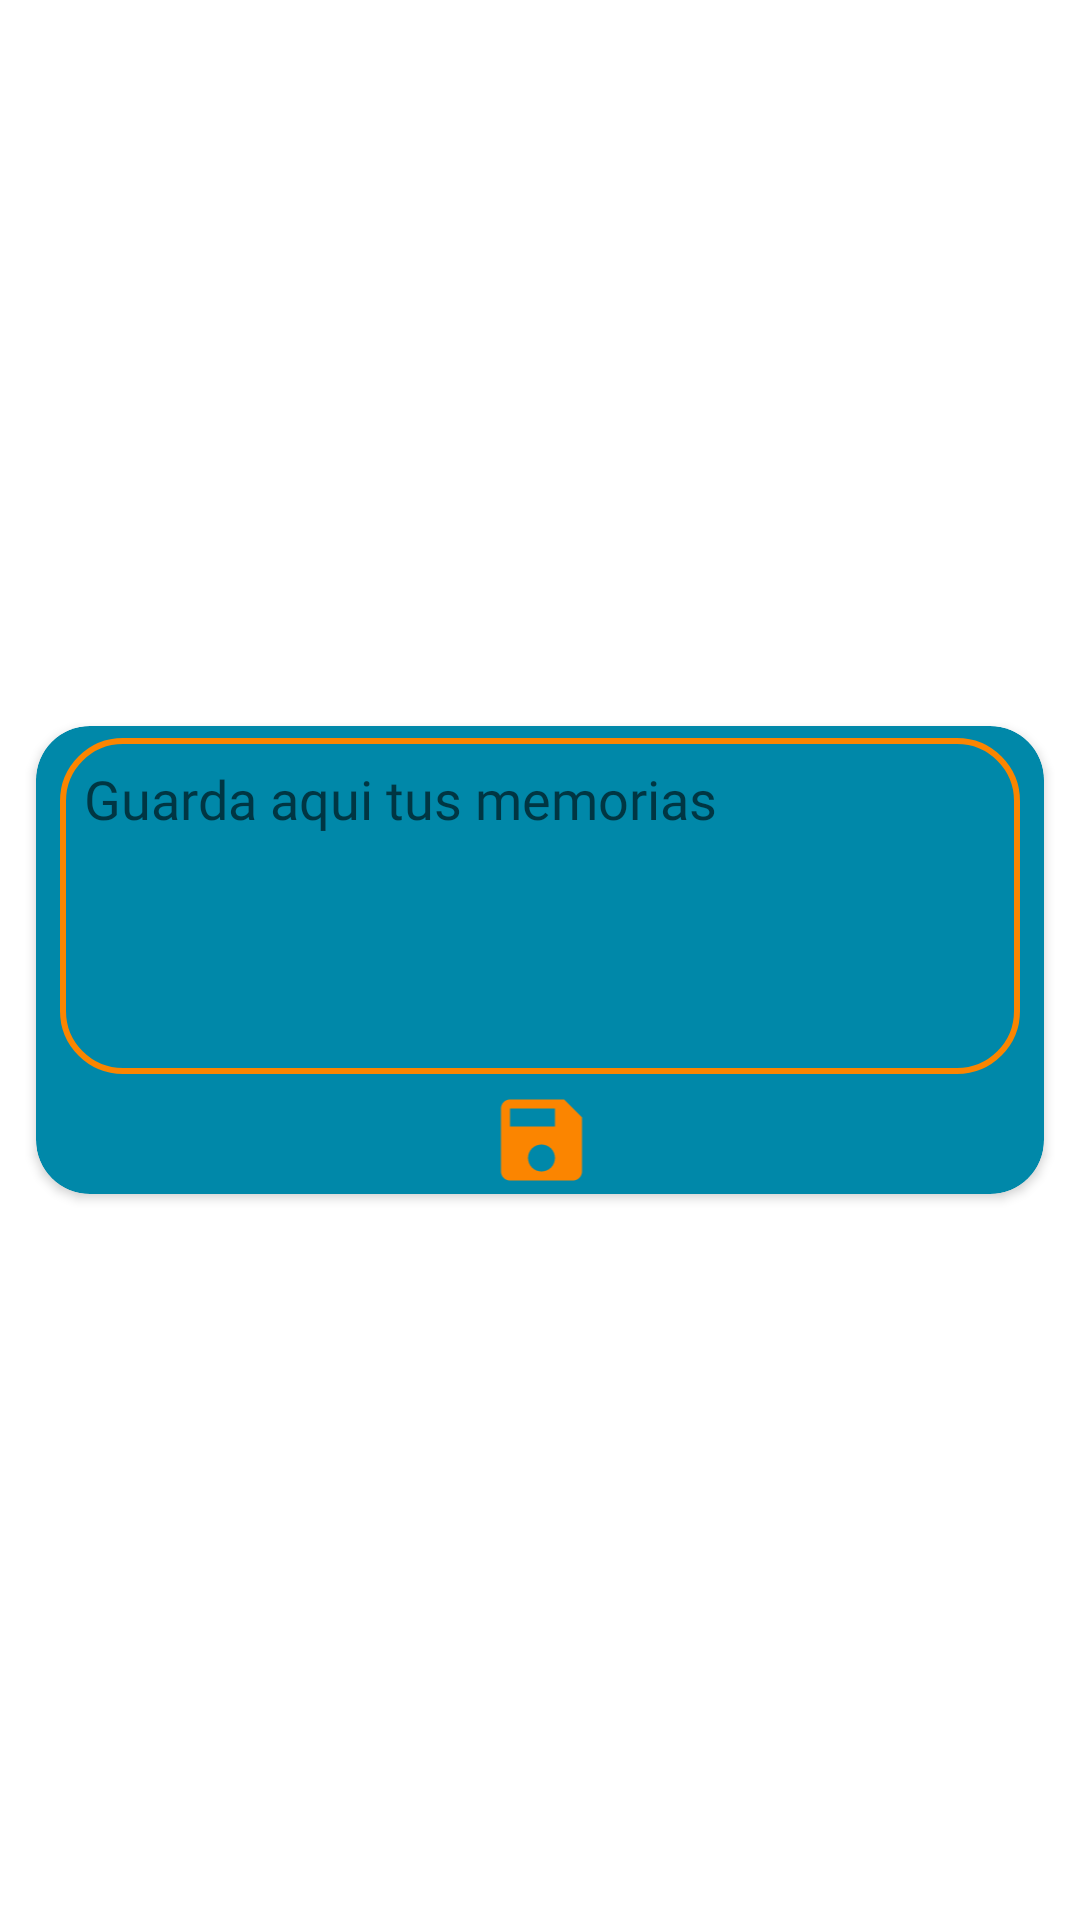

Named icons in this screenshot (1080px x 1920px) and their centers, (x,y):
save: (541,1140)
